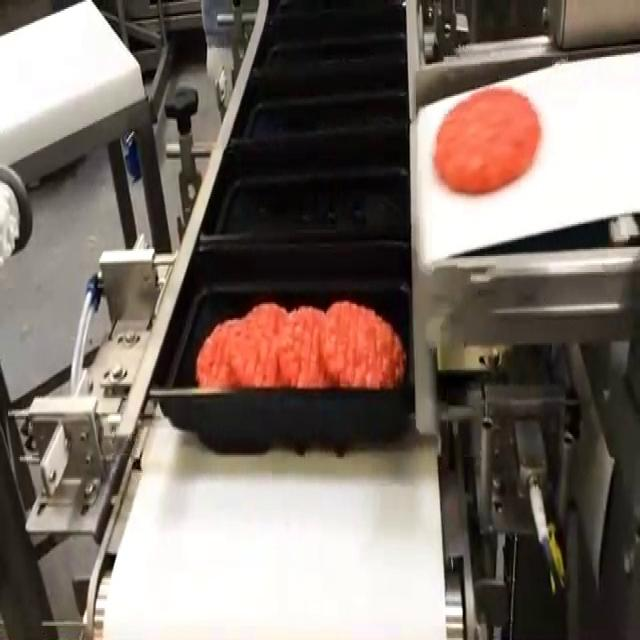4-hamburguer: (196, 300, 404, 388)
